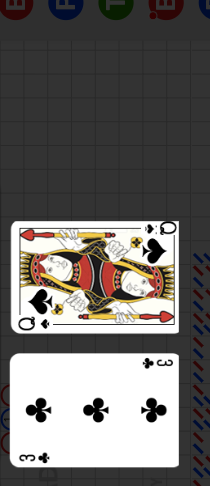3C: (18, 450, 53, 464)
9S: (143, 221, 179, 236)
